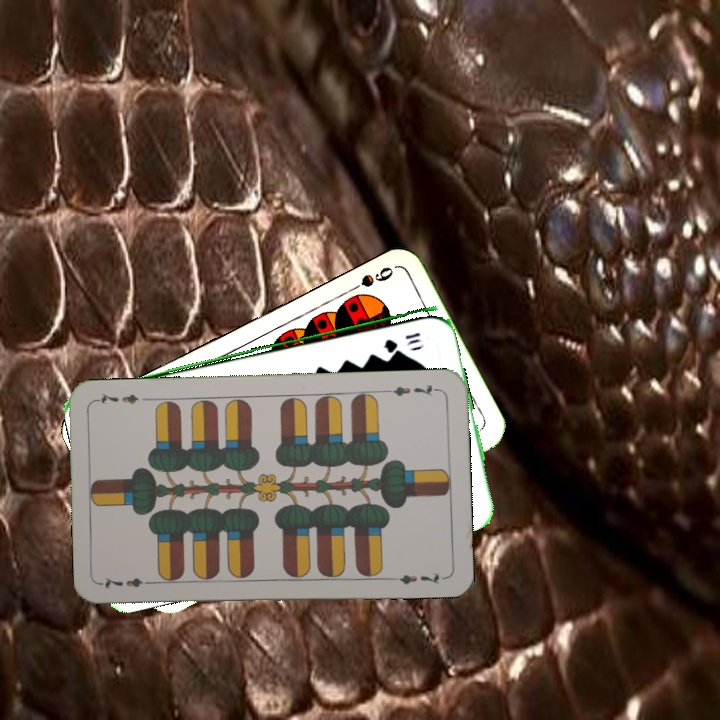E7: (382, 380, 442, 399), (98, 573, 157, 591)
G10: (380, 328, 423, 352)
S9: (342, 262, 397, 297)
